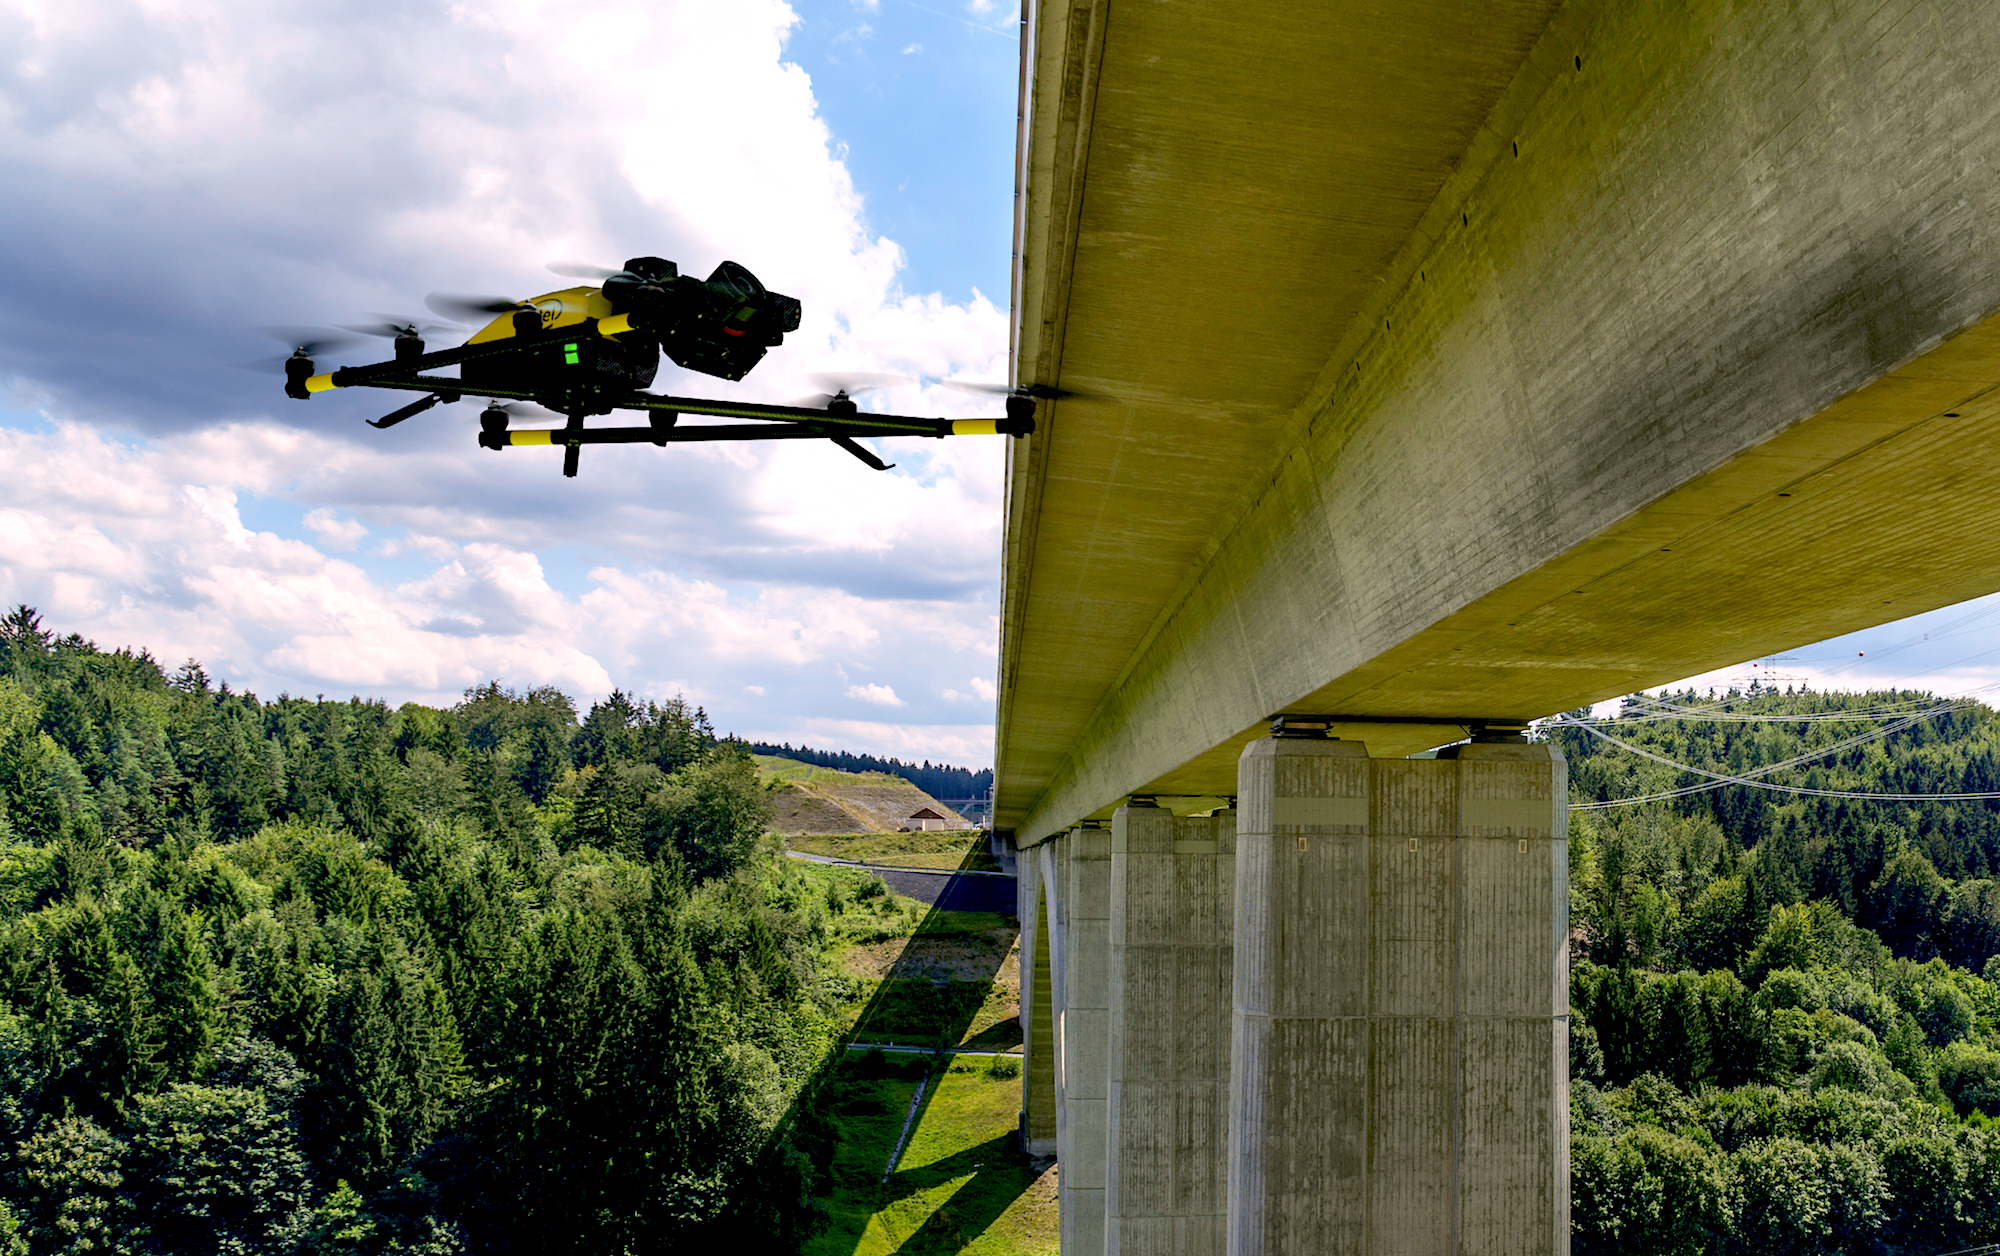drone: (232, 250, 1124, 482)
